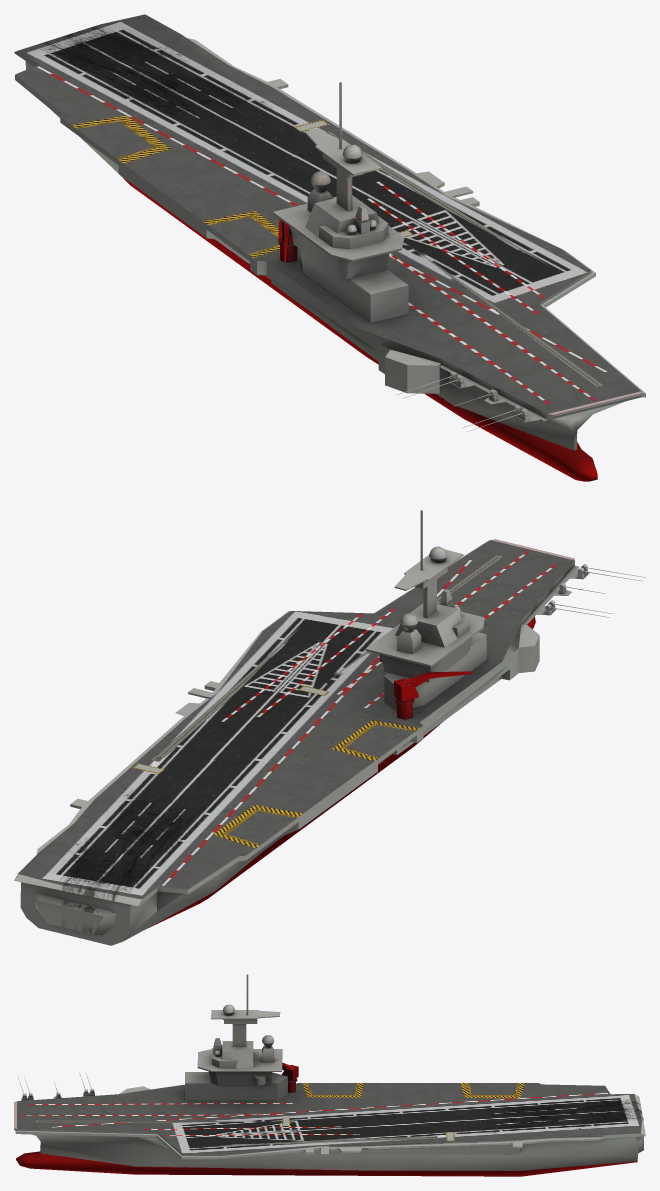
The model's file is charles_de_gaulle_french_aircraft_carrier-optimized.glb.
3 views of the same model, one above another, from view 1: azimuth 30°, elevation 25°; view 2: azimuth 150°, elevation 25°; view 3: azimuth 270°, elevation 25° (orthographic). The views are drawn at different scales.
Parts seen in each view (by area): view 1: Charles, tower, elevator2, elevator1, aimer; view 2: Charles, tower, elevator2, elevator1, aimer; view 3: Charles, tower, elevator2, elevator1.
Part boxes in pixels (box(x1,y1,x2,y2)): Charles: box(14, 14, 645, 481); tower: box(273, 82, 408, 322); elevator2: box(75, 119, 158, 164); elevator1: box(206, 215, 279, 260); aimer: box(397, 372, 529, 431); Charles: box(14, 539, 589, 945); tower: box(365, 510, 486, 719); elevator2: box(223, 809, 298, 850); elevator1: box(341, 723, 416, 763); aimer: box(544, 564, 645, 617); Charles: box(14, 1083, 645, 1176); tower: box(185, 974, 298, 1100); elevator2: box(467, 1083, 519, 1095); elevator1: box(306, 1083, 358, 1095).
Bounding box in the file's own units: 1465 × 1440 × 4721.
Materials: 1 (1 with a texture image).
